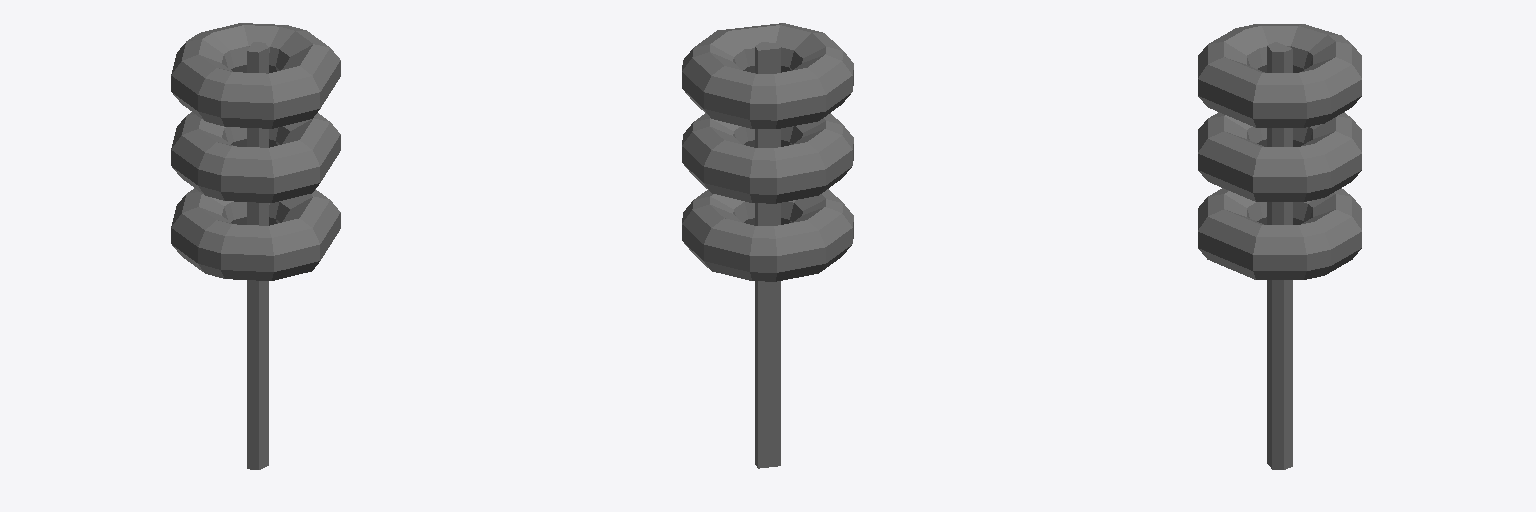
The model's file is TeslaV1.obj.
The picture shows the model from 3 angles: view 1: azimuth 30°, elevation 25°; view 2: azimuth 150°, elevation 25°; view 3: azimuth 270°, elevation 25°; orthographic projection.
Visible parts, largest first — view 1: pCylinder3; view 2: pCylinder3; view 3: pCylinder3.
Part boxes in pixels (x1,y1,x2,y2): pCylinder3: (171,23,340,469); pCylinder3: (682,23,853,468); pCylinder3: (1198,24,1361,469).
Size of the model in its own units: 0.7593 by 2.12 by 0.7593.